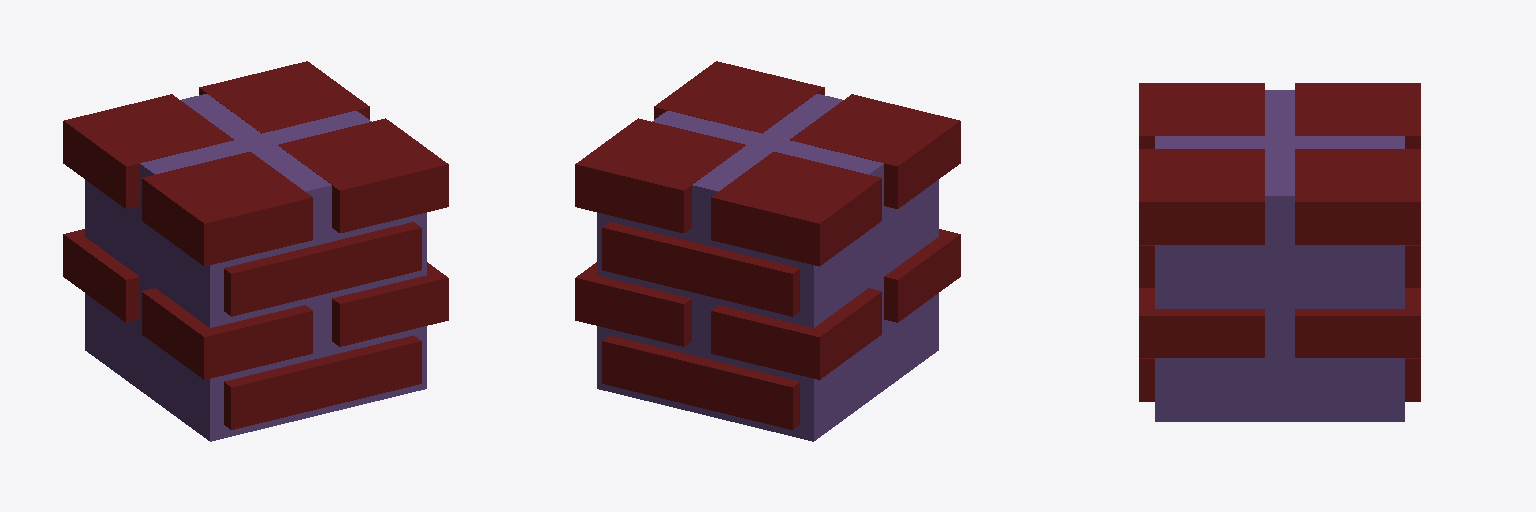
3 renders of one model, left to right at view 1: azimuth 30°, elevation 25°; view 2: azimuth 150°, elevation 25°; view 3: azimuth 270°, elevation 25°, orthographic.
Visible parts, largest first — view 1: cube; view 2: cube; view 3: cube.
Part boxes in pixels (left/top/right/bottom): cube: left=63, top=61, right=448, bottom=441; cube: left=575, top=61, right=960, bottom=441; cube: left=1139, top=83, right=1420, bottom=421.
Size of the model in its own units: 1.13 by 1 by 1.13.
Materials: 1 (1 with a texture image).